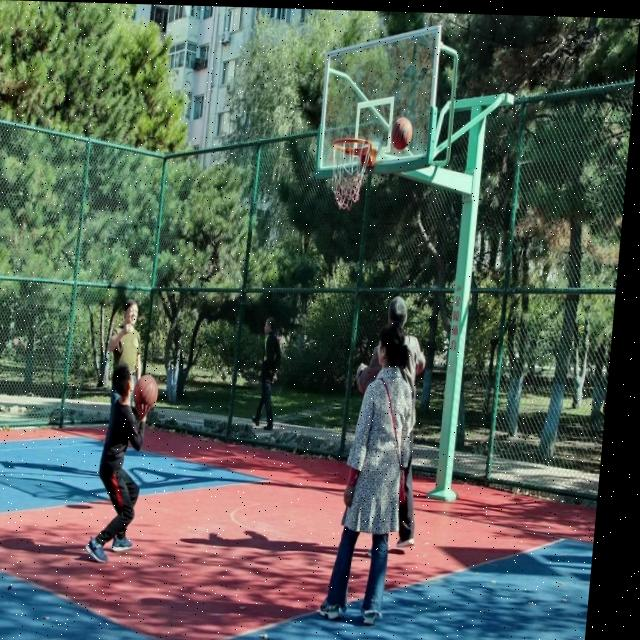basketball: (133, 375, 159, 411), (390, 118, 414, 151)
hoop: (327, 139, 373, 210)
